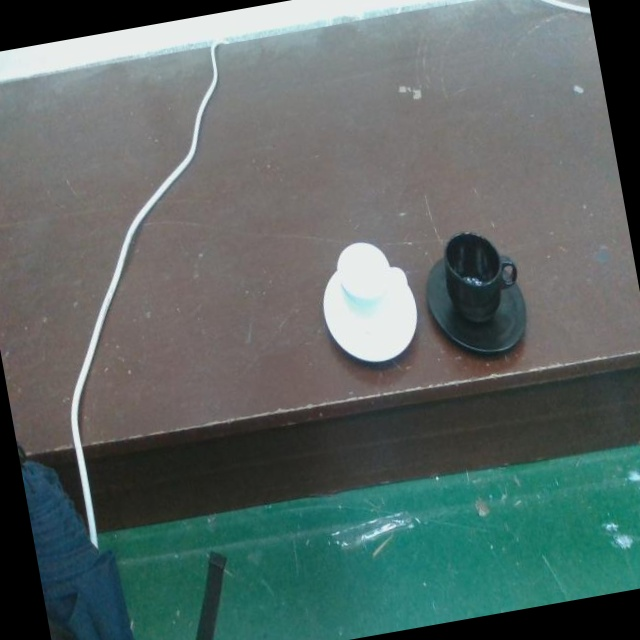black: (424, 227, 525, 363)
white: (320, 238, 418, 370)
